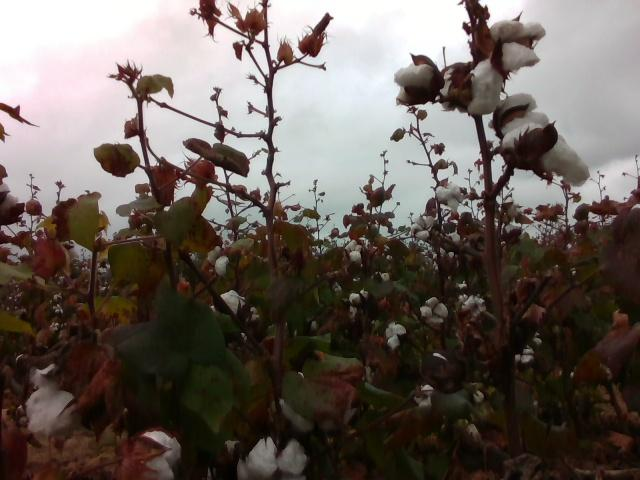cotton_ready: (499, 95, 589, 188), (25, 360, 81, 432), (438, 60, 507, 118), (235, 438, 308, 480), (491, 20, 546, 69), (133, 431, 185, 480), (395, 60, 435, 106), (209, 290, 252, 323)
